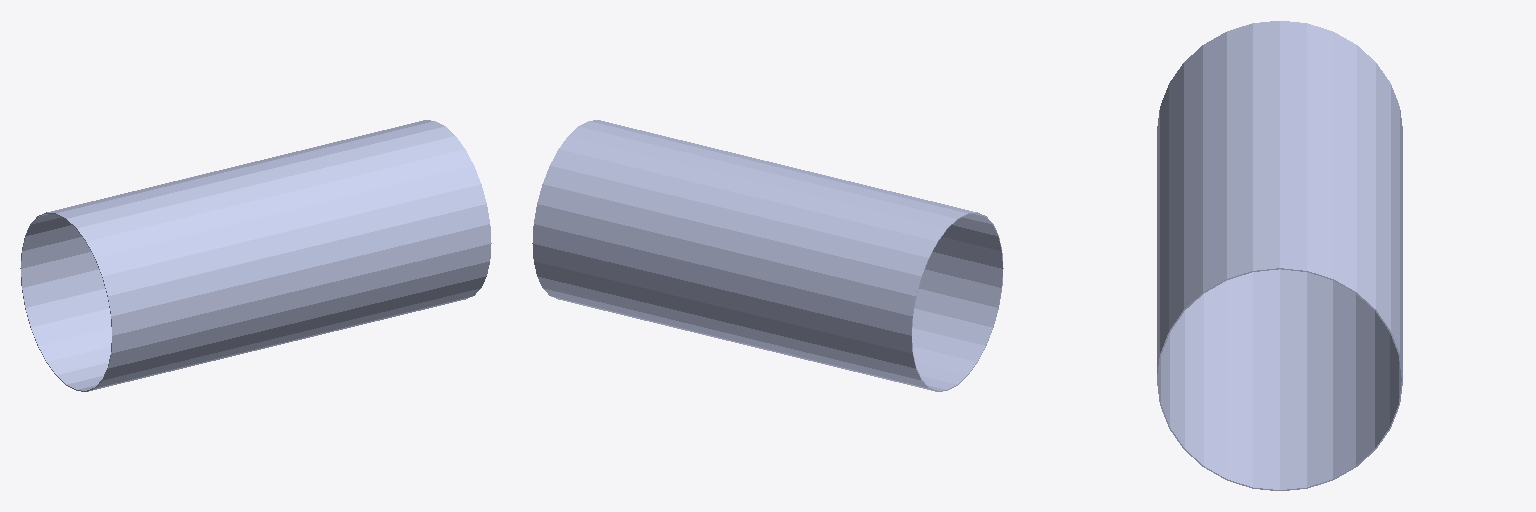
The robot description file, URDF, robot "tubewhole0404":
<?xml version="1.0" encoding="utf-8"?>
<!-- This URDF was automatically created by SolidWorks to URDF Exporter! Originally created by [author] ([email redacted]) 
     Commit Version: 1.6.0-1-g15f4949  Build Version: 1.6.7594.29634
     For more information, please see http://wiki.ros.org/sw_urdf_exporter -->
<robot
  name="tubewhole0404">
  <link
    name="base_link">
    <inertial>
      <origin
        xyz="-2.5 1.4988E-15 -2.7756E-17"
        rpy="0 0 0" />
      <mass
        value="394.14" />
      <inertia
        ixx="430.84"
        ixy="4.8756E-27"
        ixz="1.7445E-28"
        iyy="1036.6"
        iyz="7.0045E-29"
        izz="1036.6" />
    </inertial>
    <visual>
      <origin
        xyz="0 0 0"
        rpy="0 0 0" />
      <geometry>
        <mesh
          filename="package://tubewhole0404/meshes/base_link.STL" />
      </geometry>
      <material
        name="">
        <color
          rgba="0.79216 0.81961 0.93333 1" />
      </material>
    </visual>
    <collision>
      <origin
        xyz="0 0 0"
        rpy="0 0 0" />
      <geometry>
        <mesh
          filename="package://tubewhole0404/meshes/base_link.STL" />
      </geometry>
    </collision>
  </link>
</robot>

--- What the picture shows (computed from the rendered views, not written in the file) ---
3 views of the same robot in one strip: view 1: azimuth 30°, elevation 25°; view 2: azimuth 150°, elevation 25°; view 3: azimuth 270°, elevation 25° (orthographic).
Robot: tubewhole0404 — 1 links, 0 joints (none); root link base_link; default pose: all joints at 0.
Links seen in each view (by area): view 1: base_link; view 2: base_link; view 3: base_link.
Boxes of the visible links, x1,y1,x2,y2 form: base_link: [20, 120, 491, 391]; base_link: [532, 120, 1003, 391]; base_link: [1157, 21, 1402, 490].
Bounding box of the posed robot: 5 × 2.1 × 2.1 m (x, y, z).
Meshes: 1 distinct files referenced, 1 mesh visuals loaded (1 binary STL).
